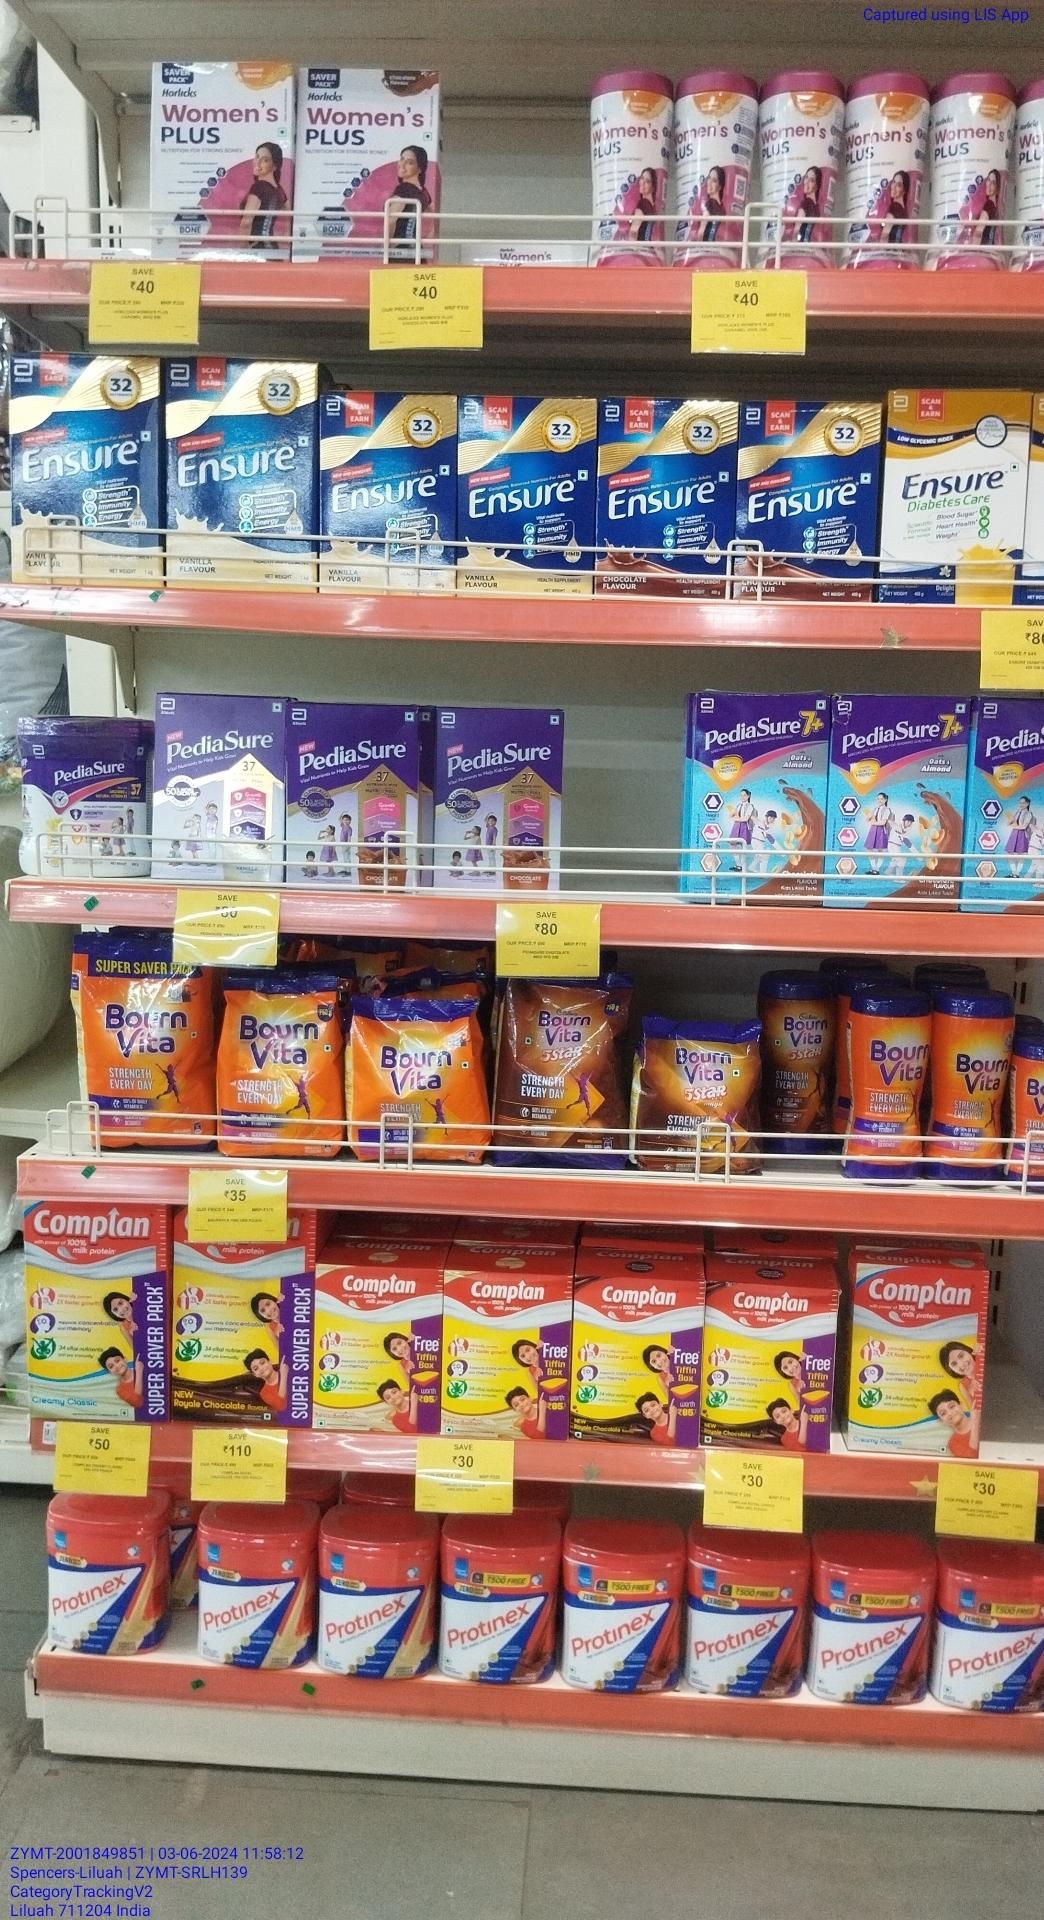BOURN_VITA_FIVE_STAR_MAGIC_500_G_JAR: (759, 974, 838, 1153)
BOURN_VITA_FIVE_STAR_MAGIC_500_G_POUCH: (640, 1010, 757, 1169)
BOURN_VITA_FIVE_STAR_MAGIC_750_G_POUCH: (492, 983, 629, 1163)
ENSURE_VANILLA_400_G_PACK: (14, 353, 161, 582), (168, 362, 312, 581), (459, 393, 594, 596), (323, 393, 455, 594)
PEDIASURE_CHOCOLATE_500_G_PACK: (432, 708, 561, 894), (285, 706, 418, 884)
PEDIASURE_VANILLA_500_G_PACK: (158, 699, 283, 882)
PROTINEX_CHOCOLATE_400_G_JAR: (441, 1514, 558, 1690), (689, 1531, 806, 1700), (566, 1515, 679, 1687), (819, 1541, 935, 1703), (944, 1536, 1044, 1717)
PROTINEX_VANILLA_400_G_JAR: (319, 1506, 436, 1677), (194, 1497, 307, 1673), (51, 1492, 161, 1657)
